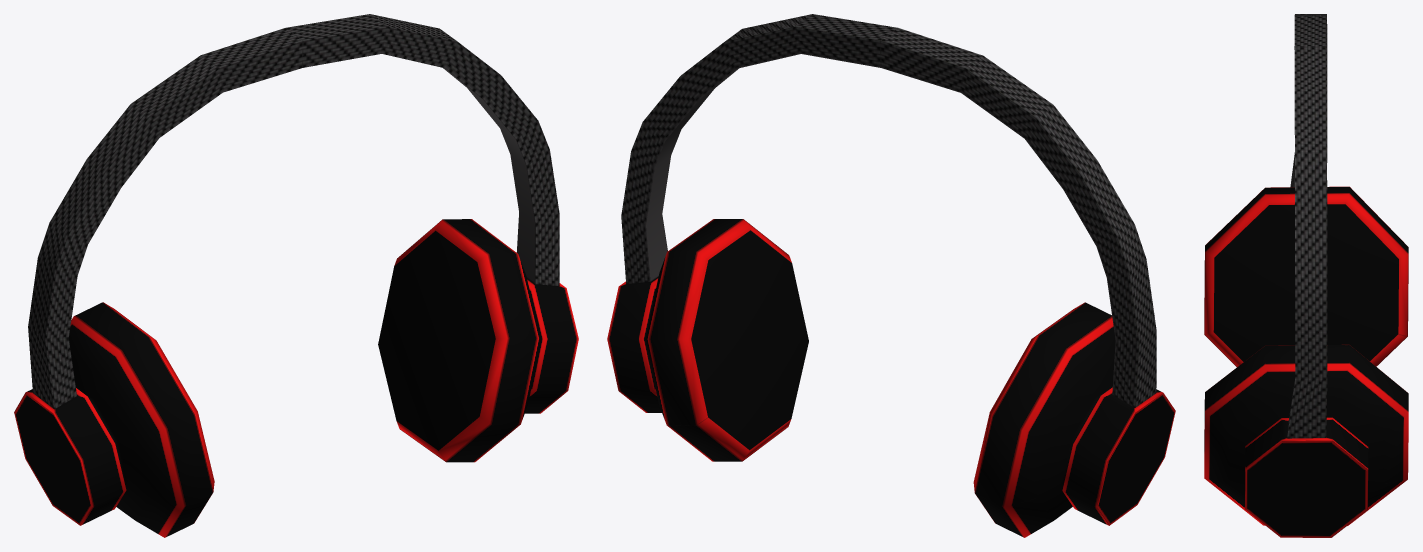
The model's file is Headphons.fbx.
3 renders of one model, left to right at view 1: azimuth 30°, elevation 25°; view 2: azimuth 150°, elevation 25°; view 3: azimuth 270°, elevation 25°, orthographic. The views are drawn at different scales.
Parts seen in each view (by area): view 1: Headphones8; view 2: Headphones8; view 3: Headphones8.
Part boxes in pixels (box(x1,y1,x2,y2)): Headphones8: box(14, 14, 578, 537); Headphones8: box(607, 14, 1175, 537); Headphones8: box(1204, 14, 1408, 537).
Bounding box in the file's own units: 0.2635 × 0.2192 × 0.0993.
